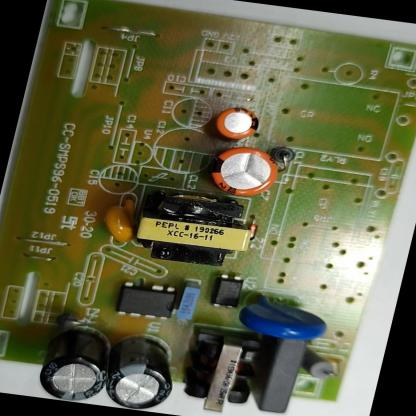Cap1: (198, 139, 286, 206)
Cap2: (208, 100, 266, 145)
Cap3: (92, 332, 189, 414)
Cap4: (32, 324, 122, 406)
MOSFET: (110, 277, 184, 326)
Mov: (228, 288, 336, 346)
Resistor: (292, 347, 344, 384)
Transformer: (120, 179, 265, 275), (170, 322, 275, 416)
